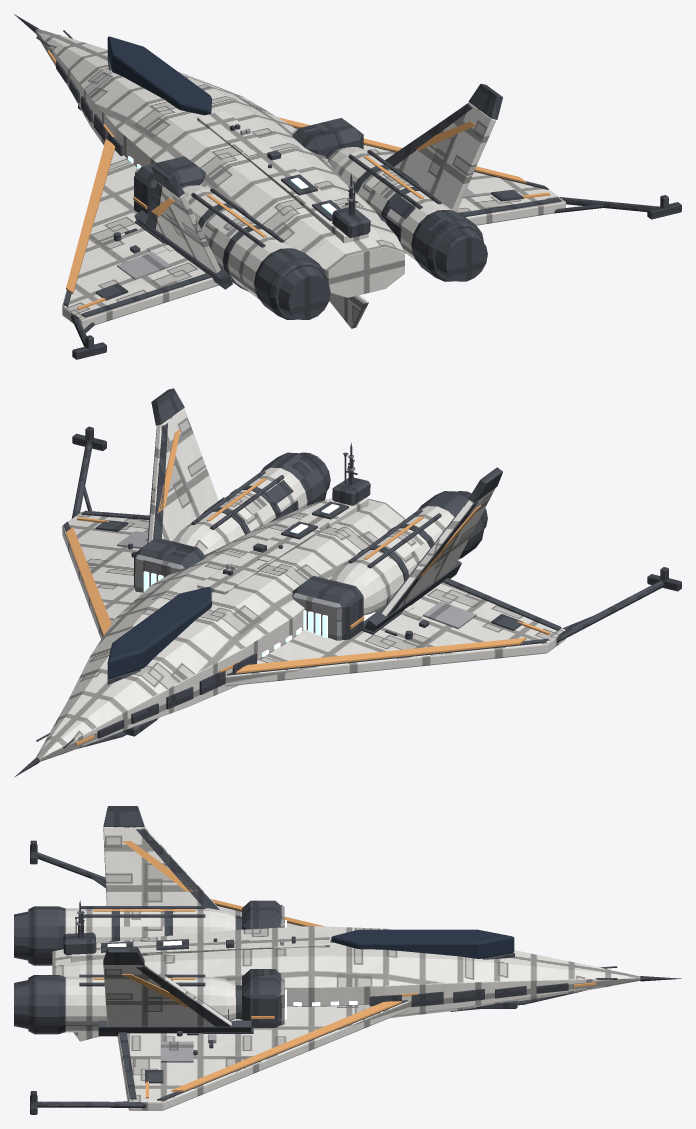
File: aur-lance-interceptor.glb
3 views of the same model, one above another, from view 1: azimuth 30°, elevation 25°; view 2: azimuth 150°, elevation 25°; view 3: azimuth 270°, elevation 25° (orthographic). The views are drawn at different scales.
Visible parts, largest first — view 1: Hull_White, Hull_Dark, Livery, Glass, Hull_Grey; view 2: Hull_White, Hull_Dark, Livery, Glass, Hull_Grey, Windows; view 3: Hull_White, Hull_Dark, Glass, Livery, Hull_Grey.
Boxes of the visible parts, x1=… form: Hull_White: x1=35, y1=29, x2=565, y2=328; Hull_Dark: x1=14, y1=14, x2=681, y2=359; Livery: x1=47, y1=50, x2=550, y2=310; Glass: x1=107, y1=36, x2=211, y2=115; Hull_Grey: x1=117, y1=128, x2=476, y2=279; Hull_White: x1=36, y1=408, x2=565, y2=761; Hull_Dark: x1=14, y1=388, x2=681, y2=777; Livery: x1=66, y1=429, x2=550, y2=745; Glass: x1=107, y1=587, x2=211, y2=678; Hull_Grey: x1=117, y1=455, x2=476, y2=640; Windows: x1=143, y1=504, x2=375, y2=656; Hull_White: x1=52, y1=827, x2=640, y2=1110; Hull_Dark: x1=14, y1=806, x2=681, y2=1114; Glass: x1=331, y1=929, x2=514, y2=958; Livery: x1=93, y1=841, x2=596, y2=1098; Hull_Grey: x1=76, y1=904, x2=284, y2=1062.
Bounding box in the file's own units: 13.5 × 3.88 × 14.43.
7 materials, 3 textured.
